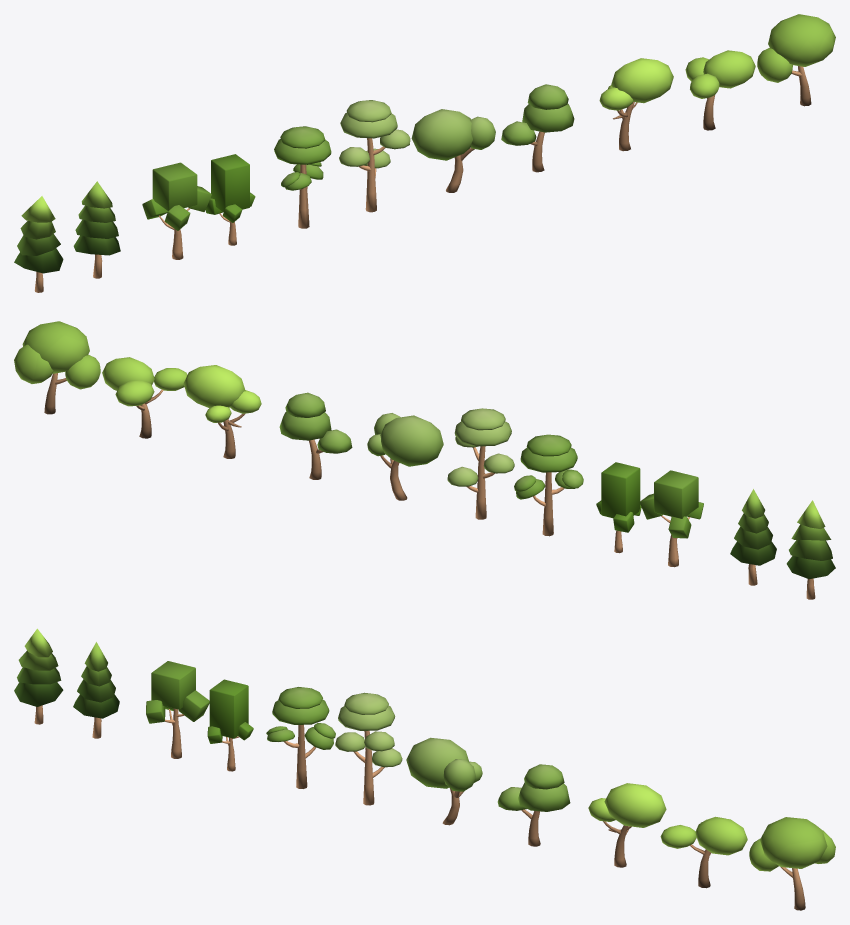
File: Pohon.fbx
3 views of the same model, one above another, from view 1: azimuth 30°, elevation 25°; view 2: azimuth 150°, elevation 25°; view 3: azimuth 330°, elevation 25° (orthographic).
Parts seen in each view (by area): view 1: Tree 2.001, Circle.040, Tree 1.002, Circle.010, Tree 4.001, Icosphere.001, Circle.043, Tree 3.001, Circle.002, Circle.009, Circle.012; view 2: Tree 2.001, Circle.040, Tree 1.002, Circle.043, Tree 4.001, Circle.010, Tree 3.001, Icosphere.001, Circle.002, Circle.009, Circle.012; view 3: Tree 2.001, Circle.040, Circle.043, Tree 1.002, Circle.010, Tree 4.001, Icosphere.001, Circle.002, Tree 3.001, Circle.009, Circle.012.
Part boxes in pixels (x1,y1,x2,y2): Tree 2.001: (757, 14, 835, 106); Circle.040: (339, 100, 410, 212); Tree 1.002: (411, 109, 495, 192); Circle.010: (142, 162, 211, 259); Tree 4.001: (599, 58, 673, 151); Icosphere.001: (501, 84, 574, 172); Circle.043: (274, 126, 331, 228); Tree 3.001: (685, 50, 755, 130); Circle.002: (14, 196, 63, 292); Circle.009: (206, 154, 255, 245); Circle.012: (73, 181, 120, 278); Tree 2.001: (14, 321, 100, 414); Circle.040: (447, 408, 514, 519); Tree 1.002: (367, 413, 443, 500); Circle.043: (514, 434, 583, 536); Tree 4.001: (183, 365, 261, 458); Circle.010: (639, 470, 703, 567); Tree 3.001: (102, 357, 187, 438); Icosphere.001: (279, 392, 352, 479); Circle.002: (786, 500, 835, 599); Circle.009: (596, 462, 641, 553); Circle.012: (730, 489, 776, 585); Tree 2.001: (749, 817, 835, 910); Circle.040: (335, 692, 402, 805); Circle.043: (266, 687, 335, 788); Tree 1.002: (406, 737, 482, 825); Circle.010: (146, 661, 209, 758); Tree 4.001: (588, 783, 666, 867); Icosphere.001: (497, 764, 570, 846); Circle.002: (14, 628, 63, 724); Tree 3.001: (660, 816, 747, 888); Circle.009: (207, 679, 253, 771); Circle.012: (73, 642, 119, 738).
Size of the model in its own units: 11664 by 1471 by 952.
